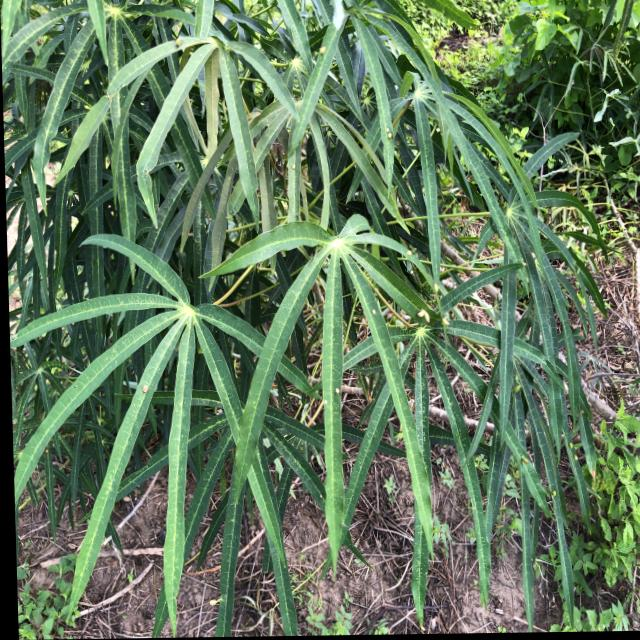Maleza: (505, 7, 631, 128), (590, 416, 640, 603)
Mosca: (86, 149, 119, 172), (377, 118, 404, 146), (507, 375, 528, 407), (390, 333, 413, 359), (138, 373, 164, 393), (409, 301, 435, 319), (310, 41, 326, 64), (325, 380, 339, 404), (365, 305, 383, 321)
